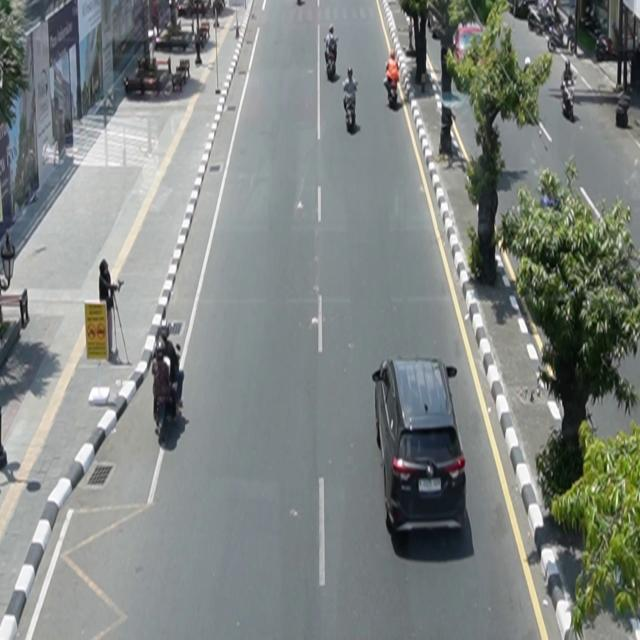car: (373, 357, 468, 537)
